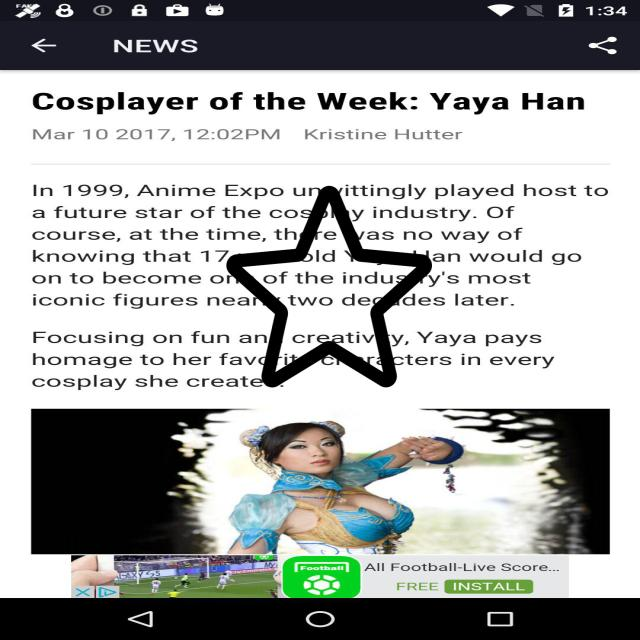forced continuity: (226, 181, 432, 392)
